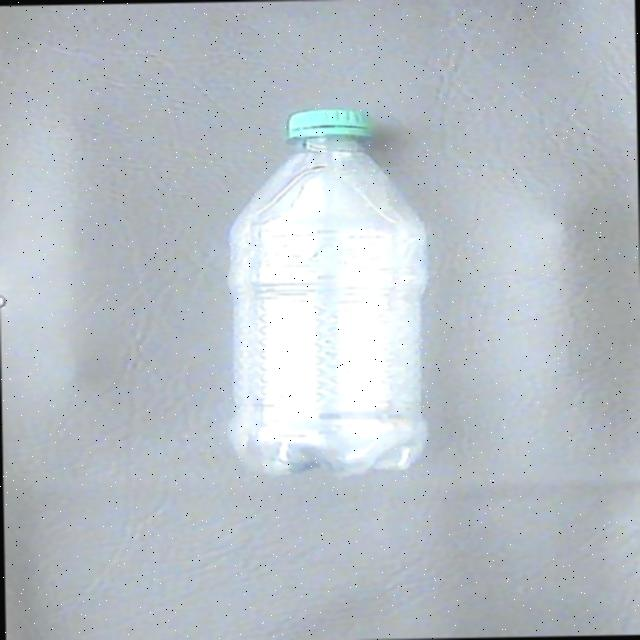bottle: (214, 104, 440, 480)
cap: (277, 103, 386, 149)
